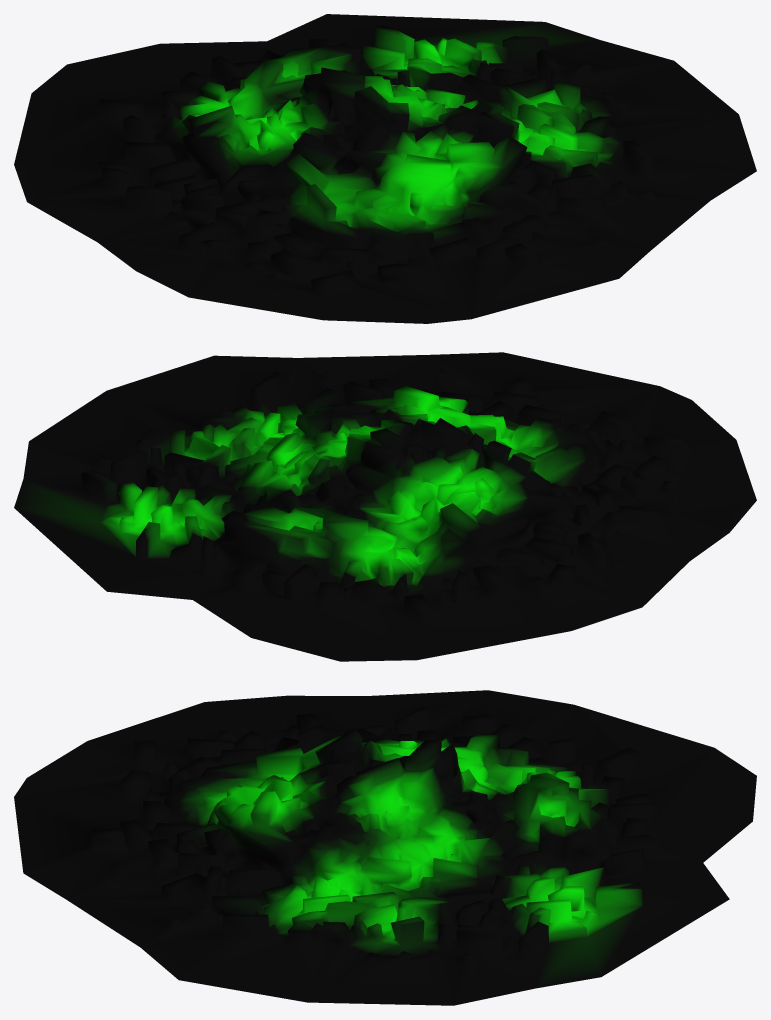
Rendered from DBK_Brick_Rubble_B.fbx.
The picture shows the model from 3 angles, top to bottom: view 1: azimuth 30°, elevation 25°; view 2: azimuth 150°, elevation 25°; view 3: azimuth 270°, elevation 25°; orthographic projection. The views are drawn at different scales.
Parts seen in each view (by area): view 1: DBK_Brick_Rubble_B; view 2: DBK_Brick_Rubble_B; view 3: DBK_Brick_Rubble_B.
Part boxes in pixels (left/top/right/bottom): DBK_Brick_Rubble_B: left=14, top=14, right=756, bottom=323; DBK_Brick_Rubble_B: left=14, top=352, right=756, bottom=661; DBK_Brick_Rubble_B: left=14, top=690, right=756, bottom=1005.
Bounding box in the file's own units: 362 × 46.64 × 360.
